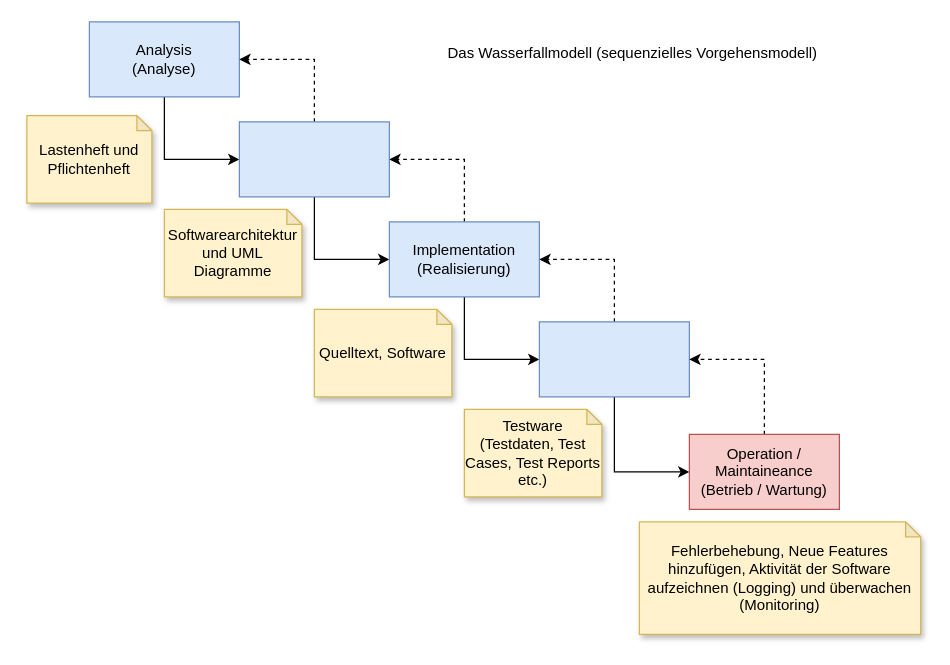
This 950x665 diagram has some shape labels left out. Here are the shapes that lost their labels. From the top down, the centre of each, then its label:
the point at 313,159: Design (Entwurf)
the point at 613,359: Testing (Test)
